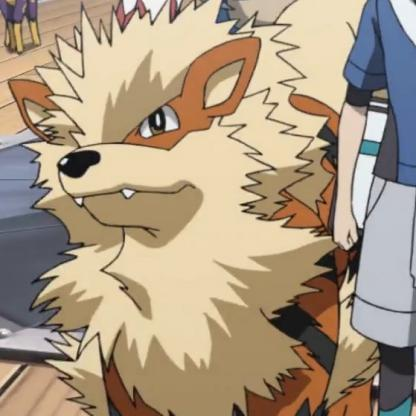Arcanine: (8, 5, 309, 416)
